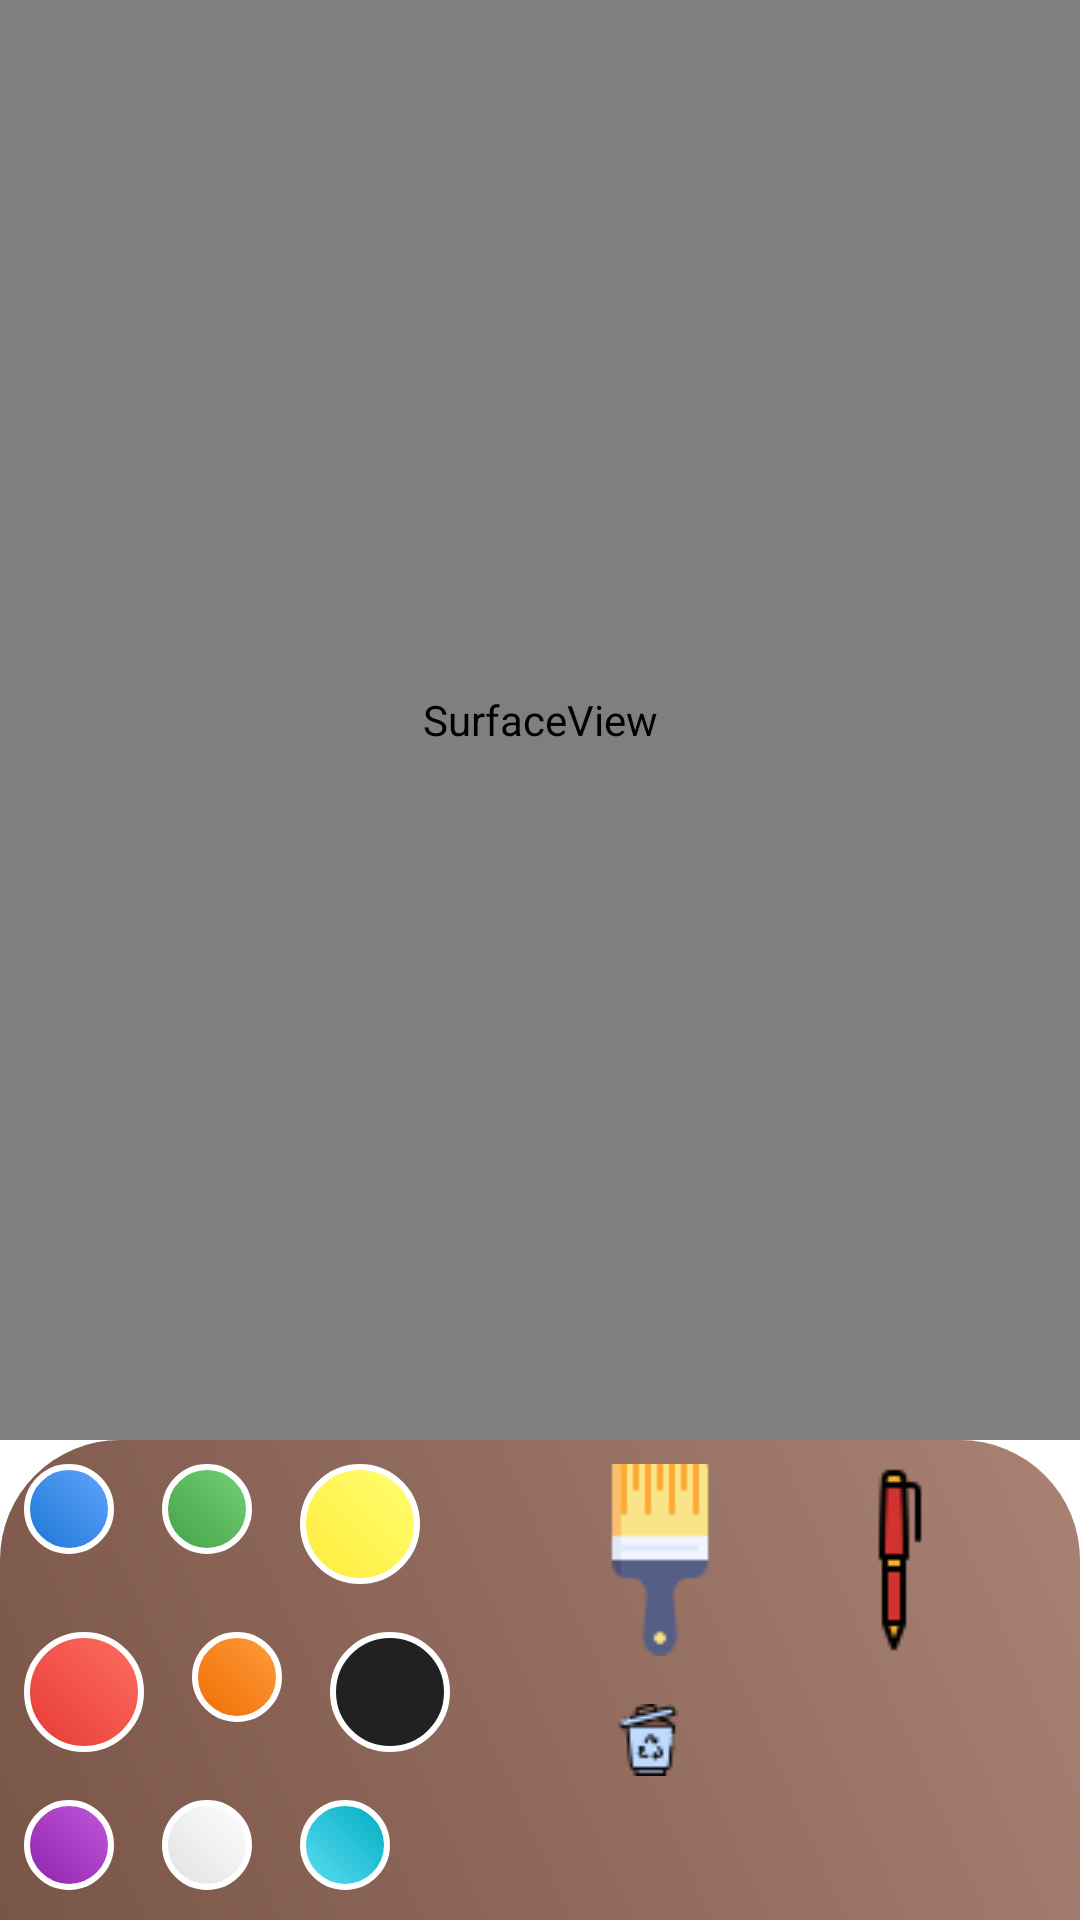

Named icons in this screenshot (1080 x 1920) and their centers, (x=x, y=y):
Black: (x=390, y=1692)
Blue: (x=69, y=1509)
brush: (x=660, y=1560)
Cyan: (x=345, y=1845)
Gray: (x=207, y=1845)
Orange: (x=237, y=1677)
pen: (x=900, y=1560)
Purple: (x=69, y=1845)
Red: (x=84, y=1692)
waste: (x=648, y=1740)
